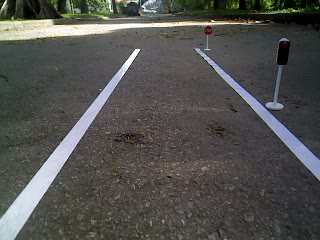Red: (274, 36, 292, 68)
Stop: (203, 25, 213, 36)
